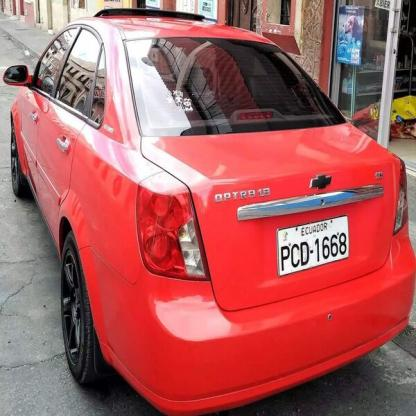Placa: (274, 211, 357, 278)
